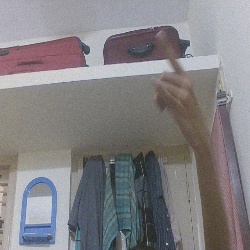hand: (136, 31, 217, 158)
